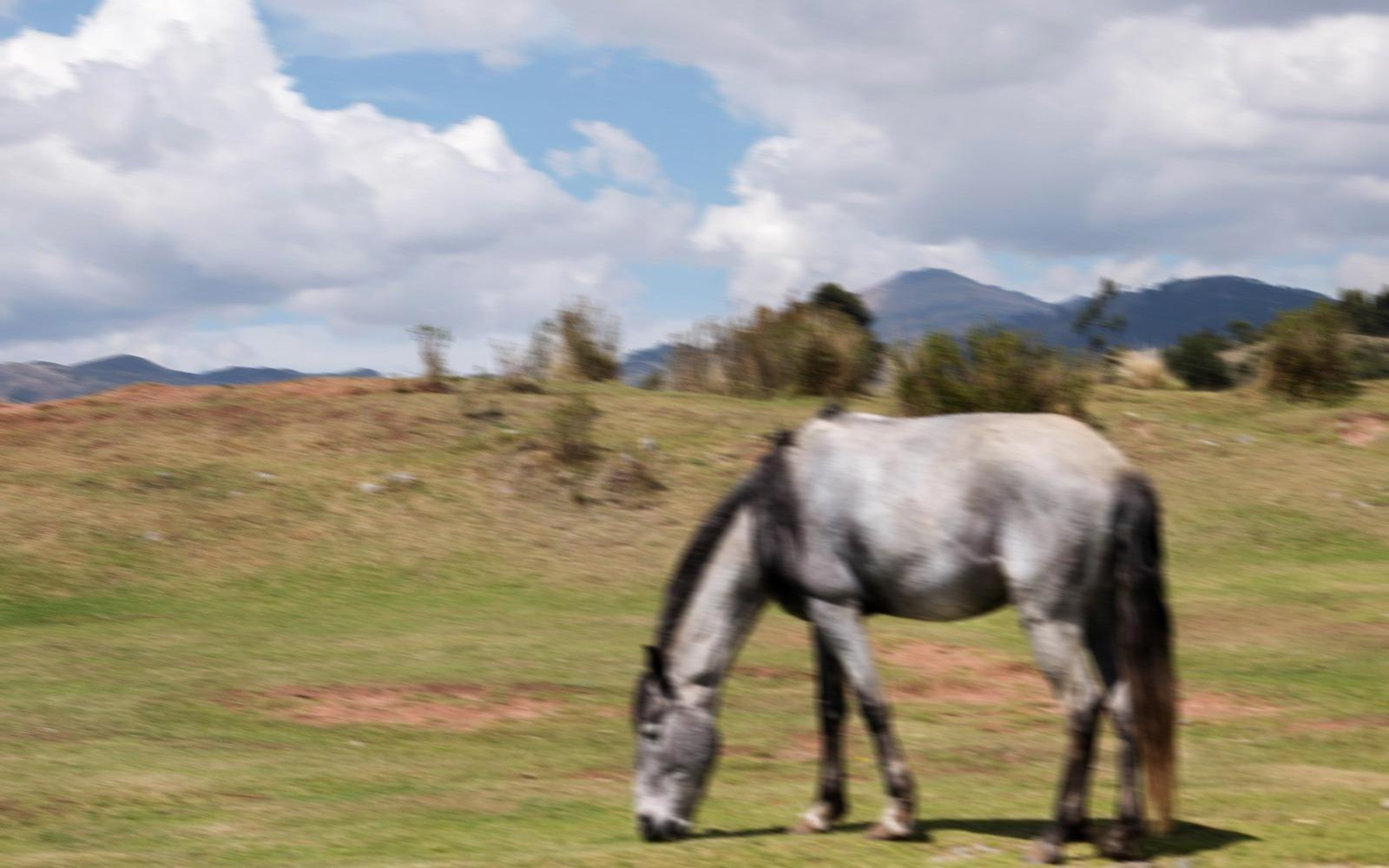horse: (620, 395, 1188, 868)
